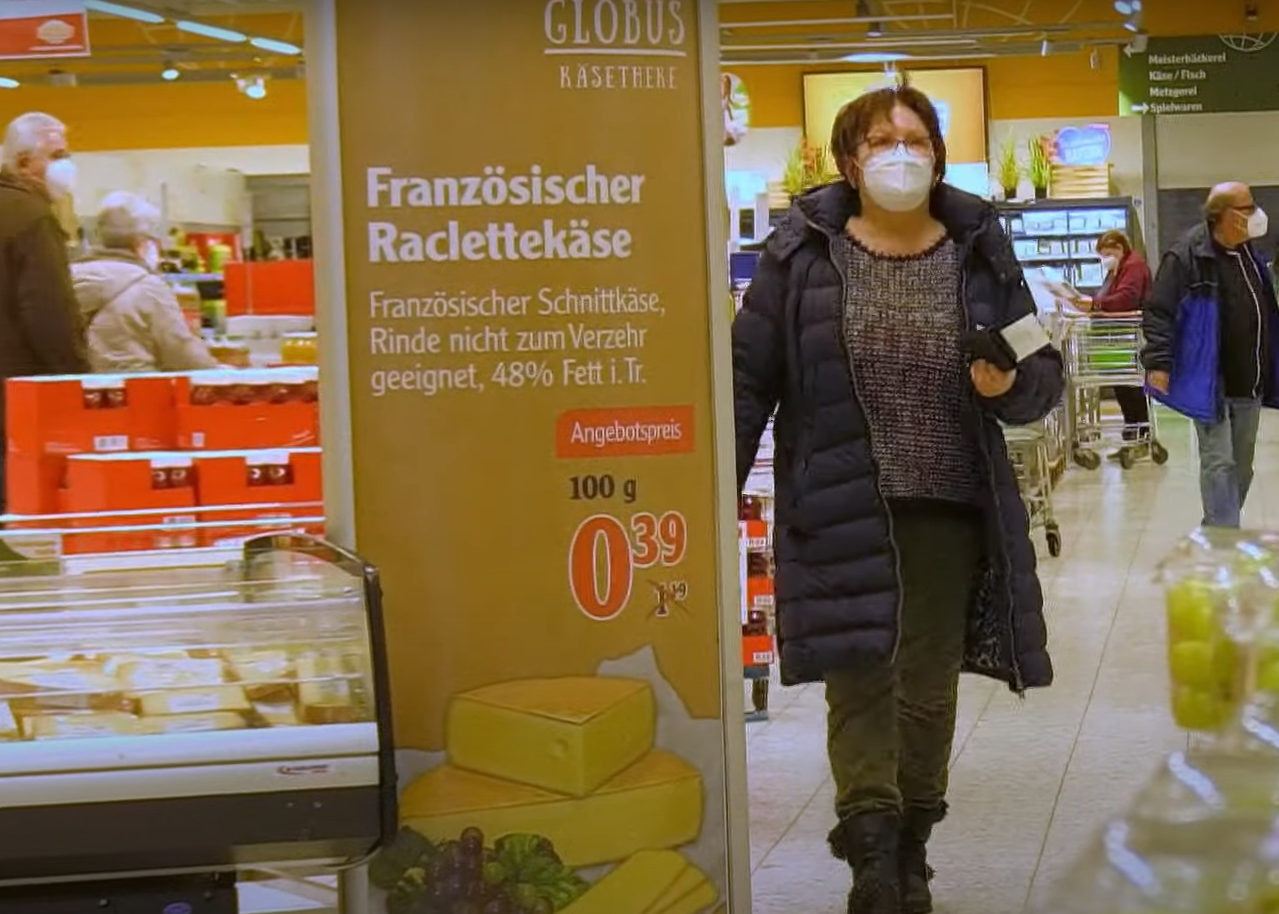with_mask: (856, 129, 936, 208)
